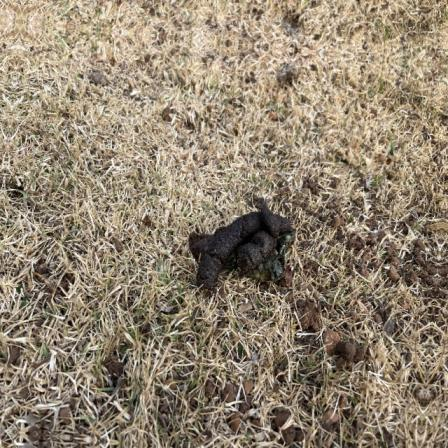dog-poop: (192, 204, 296, 292)
